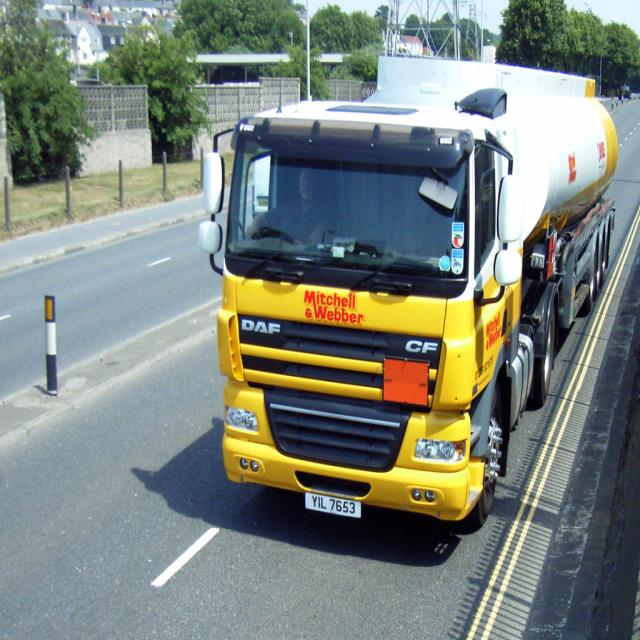Heavy Duty Truck: (196, 51, 620, 558)
